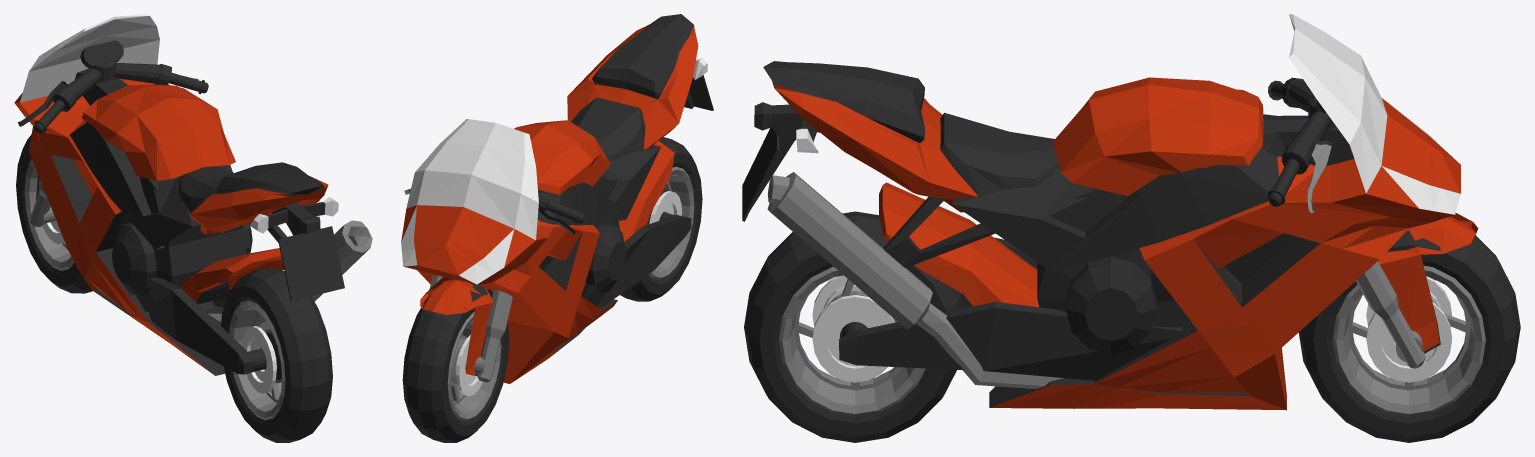
File: Motorcycle.glb
3 views of the same model, side by side, from view 1: azimuth 30°, elevation 25°; view 2: azimuth 150°, elevation 25°; view 3: azimuth 270°, elevation 25° (orthographic). The views are drawn at different scales.
Parts seen in each view (by area): view 1: Motorcycle; view 2: Motorcycle; view 3: Motorcycle.
Part boxes in pixels (x1,y1,x2,y2): Motorcycle: [14, 14, 372, 442]; Motorcycle: [401, 14, 713, 442]; Motorcycle: [742, 14, 1520, 442].
Size of the model in its own units: 2.76 by 4.42 by 7.61.
1 material, 1 textured.
